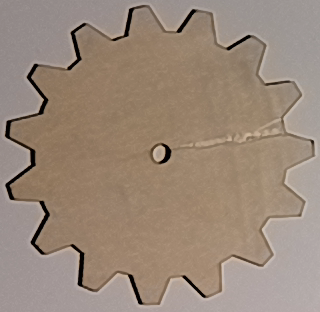Crack: (172, 113, 288, 152)
